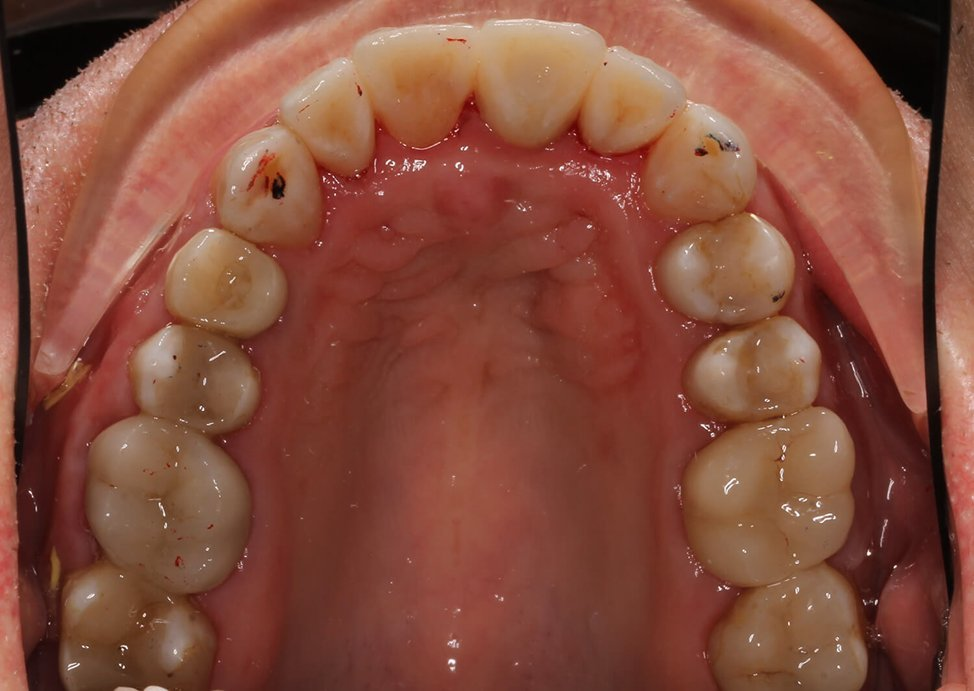UL1BC_healthy: (653, 222, 795, 319)
UL1M_healthy: (691, 425, 861, 566)
UL2BC_decay: (692, 323, 822, 417)
UL2M_healthy: (708, 581, 870, 691)
ULCI_healthy: (475, 19, 595, 143)
ULC_decay: (653, 120, 751, 219)
ULLI_healthy: (596, 41, 681, 158)
UR1BC_decay: (167, 233, 292, 334)
UR1M_healthy: (86, 426, 252, 584)
UR2BC_decay: (133, 327, 261, 430)
UR2M_healthy: (54, 581, 213, 691)
URCI_decay: (357, 21, 476, 151)
URC_decay: (214, 126, 328, 247)
URLI_healthy: (287, 64, 374, 175)
